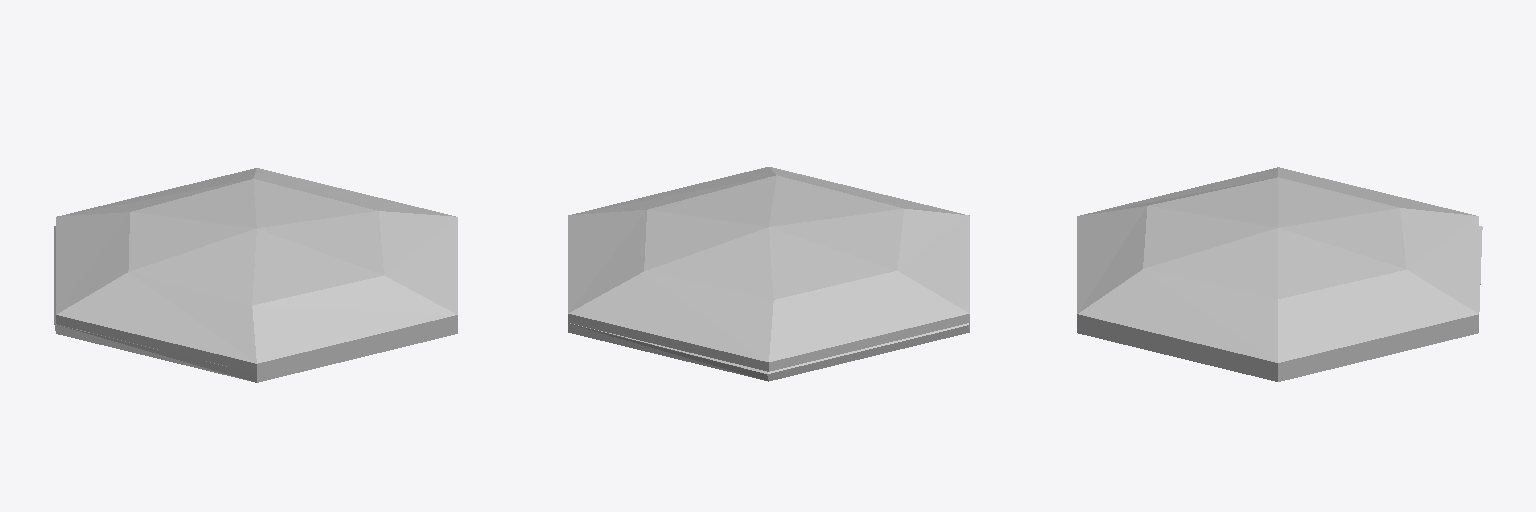
Rendered from cymbal1.obj.
3 renders of one model, left to right at view 1: azimuth 30°, elevation 25°; view 2: azimuth 150°, elevation 25°; view 3: azimuth 270°, elevation 25°, orthographic.
Parts seen in each view (by area): view 1: cymbal1; view 2: cymbal1; view 3: cymbal1.
Boxes of the visible parts, box(x1,y1,x2,y2) form: cymbal1: box(54, 168, 457, 382); cymbal1: box(568, 167, 969, 381); cymbal1: box(1077, 167, 1482, 381).
Size of the model in its own units: 1 by 0.1344 by 0.8737.